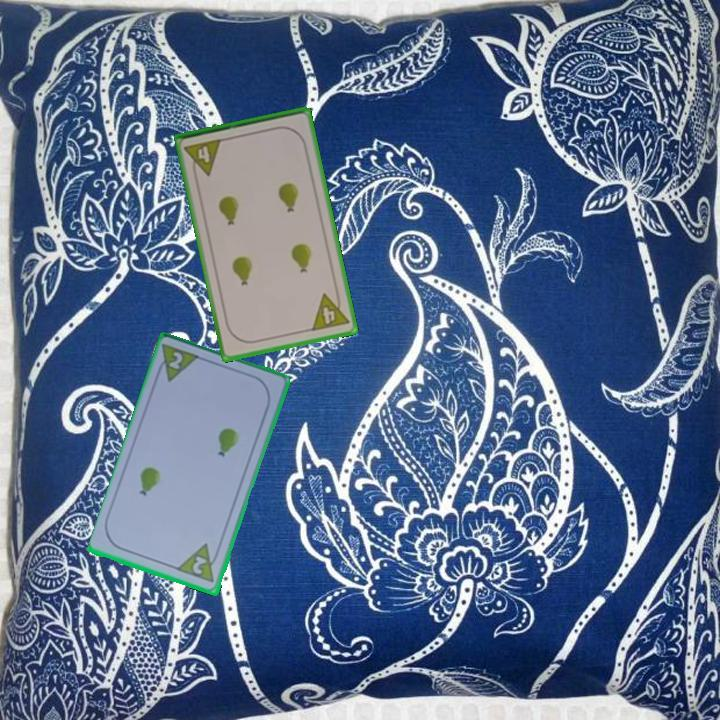2p: (152, 341, 204, 386), (175, 541, 223, 586)
4p: (308, 288, 352, 334), (181, 135, 225, 180)
